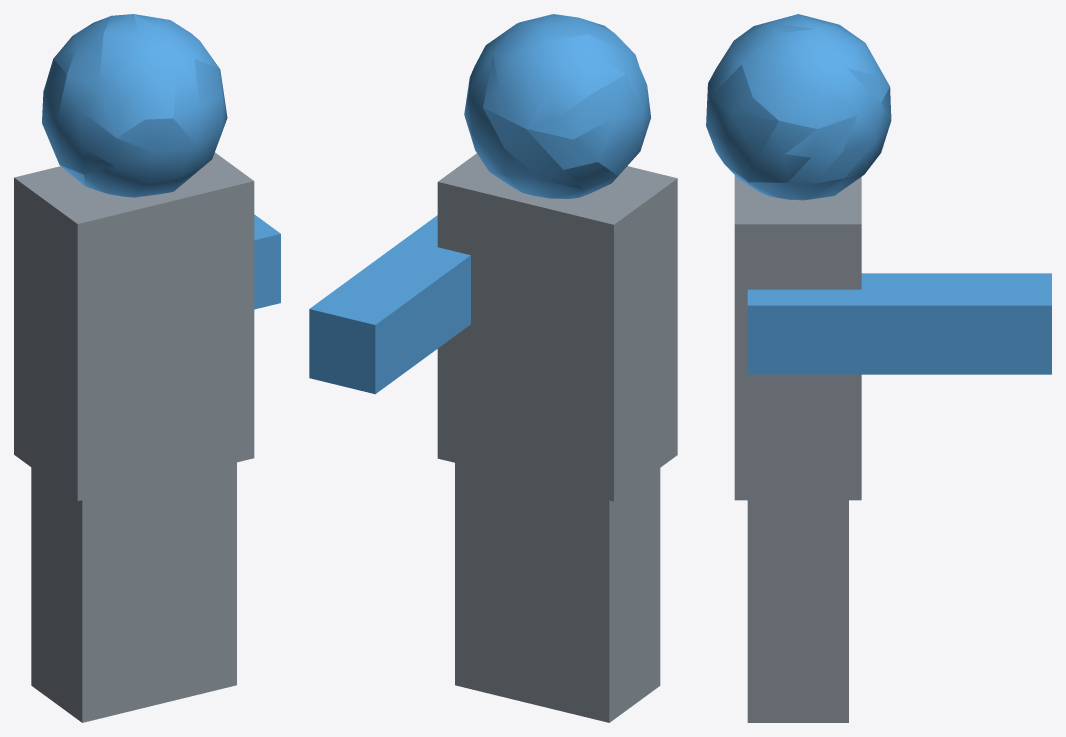
The model's file is AL_SentinelRifleman_LOD2.glb.
3 renders of one model, left to right at view 1: azimuth 30°, elevation 25°; view 2: azimuth 150°, elevation 25°; view 3: azimuth 270°, elevation 25°, orthographic.
Parts seen in each view (by area): view 1: Head; view 2: Head; view 3: Head.
Boxes of the visible parts, <box> form: Head: <box>14,14,280,722</box>; Head: <box>309,14,677,722</box>; Head: <box>706,14,1051,722</box>.
Bounding box in the file's own units: 57 × 172 × 81.81.
